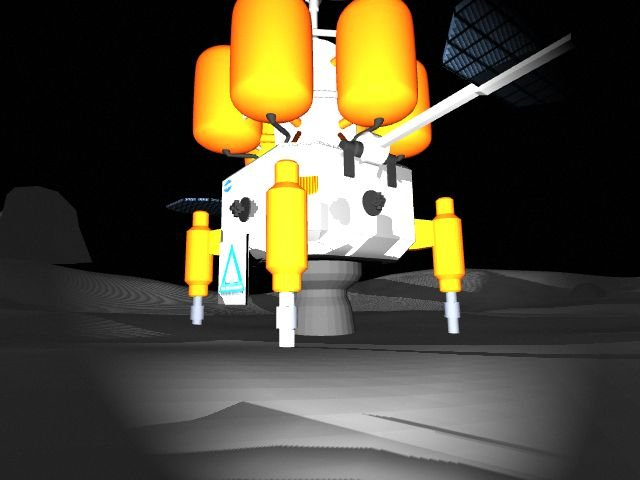basemarker: (218, 242, 246, 296)
